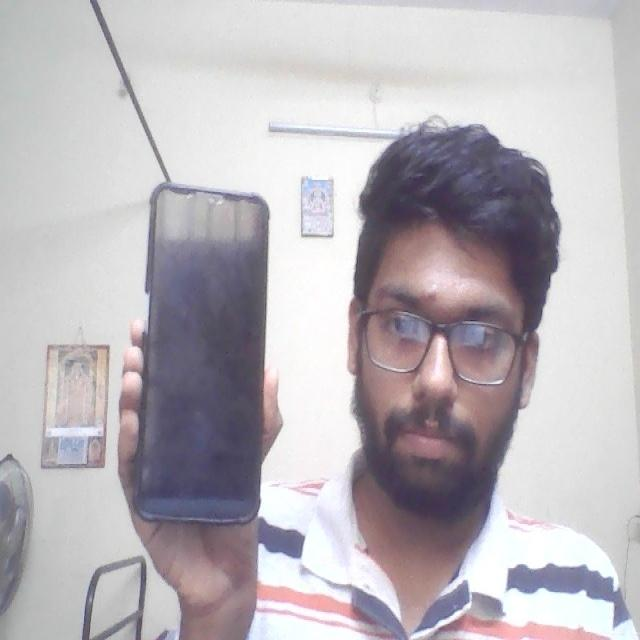Mobile: (126, 175, 275, 535)
